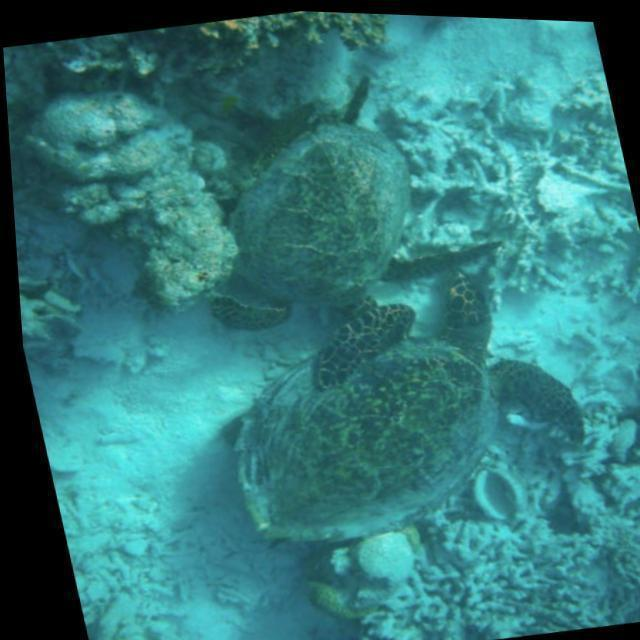Dead Coral: (18, 64, 247, 347), (417, 76, 640, 279), (396, 523, 640, 640)
